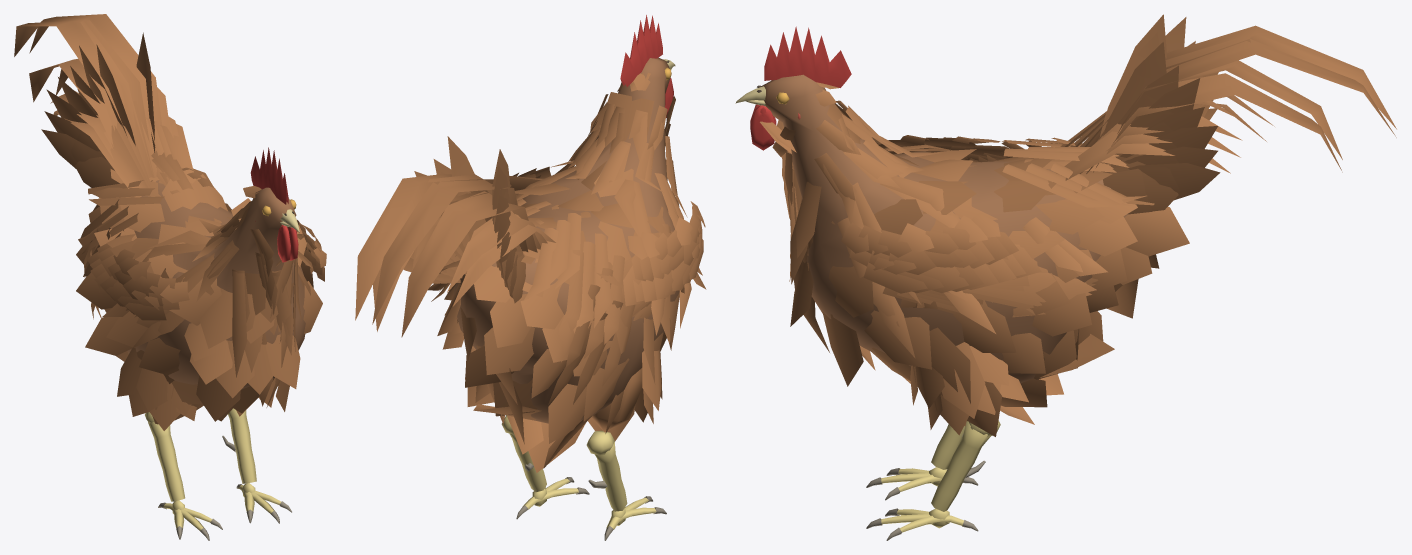
Rendered from chicken_lo.glb.
3 renders of one model, left to right at view 1: azimuth 30°, elevation 25°; view 2: azimuth 150°, elevation 25°; view 3: azimuth 270°, elevation 25°, orthographic. The views are drawn at different scales.
Visible parts, largest first — view 1: feathers, tail__r, body, hackle__r, wing_r, hackle__h, saddle__r, thigh_r, tail__h, shank_r, shank_l, comb__r (+4 smaller); view 2: feathers, tail__r, body, saddle__r, wing_r, hackle__r, hackle__h, thigh_r, shank_r, comb__r, tail__h, shank_l (+2 smaller); view 3: feathers, tail__r, body, wing_l, hackle__h, hackle__r, thigh_l, tail__h, saddle__r, comb__r, shank_l, wing_r (+4 smaller).
Part boxes in pixels (box(x1,y1,x2,y2)): feathers: box(76, 169, 322, 424); tail__r: box(14, 14, 195, 197); body: box(107, 180, 305, 389); hackle__r: box(90, 166, 313, 407); wing_r: box(86, 234, 189, 321); hackle__h: box(94, 167, 312, 372); saddle__r: box(78, 150, 214, 319); thigh_r: box(117, 348, 196, 430); tail__h: box(71, 44, 154, 187); shank_r: box(145, 412, 185, 501); shank_l: box(228, 408, 256, 483); comb__r: box(250, 147, 288, 204); feathers: box(428, 72, 706, 472); tail__r: box(355, 136, 555, 337); body: box(453, 57, 679, 423); saddle__r: box(455, 199, 635, 404); wing_r: box(547, 201, 705, 351); hackle__r: box(431, 97, 691, 362); hackle__h: box(439, 94, 683, 326); thigh_r: box(591, 348, 662, 432); shank_r: box(586, 430, 627, 511); comb__r: box(620, 15, 662, 87); tail__h: box(411, 145, 525, 301); shank_l: box(501, 415, 546, 492); feathers: box(790, 82, 1189, 436); tail__r: box(1056, 14, 1396, 211); body: box(760, 74, 1127, 383); wing_l: box(841, 212, 1098, 317); hackle__h: box(760, 100, 1082, 326); hackle__r: box(760, 101, 1116, 358); thigh_l: box(910, 342, 1028, 435); tail__h: box(1100, 32, 1194, 214); saddle__r: box(1001, 137, 1146, 207); comb__r: box(764, 26, 851, 87); shank_l: box(931, 420, 1000, 511); wing_r: box(878, 135, 1009, 162).
Bounding box in the file's own units: 0.2868 × 0.5716 × 0.711.
